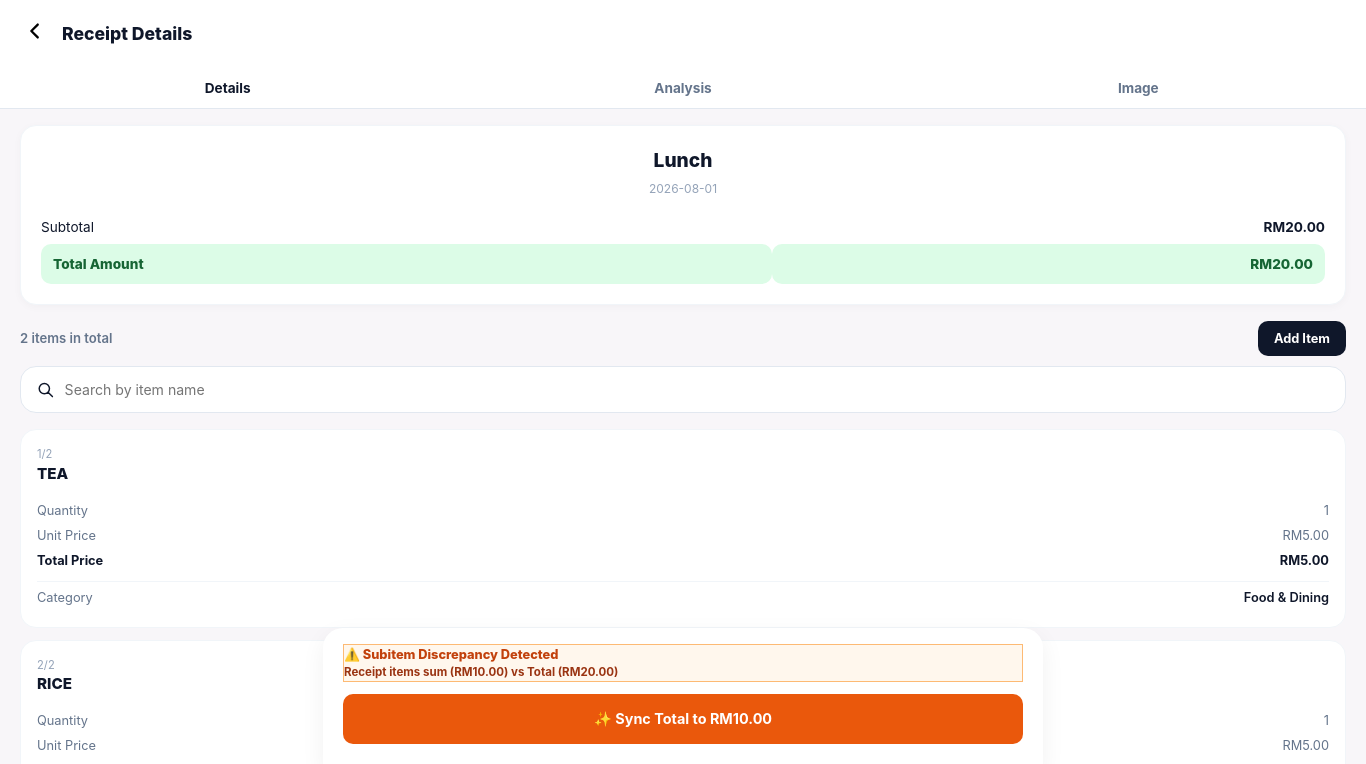
Test: ReceiptDetailsView › filters line items and reports a fee-aware discrepancy
The image size is (1366, 764).
Expected: the text "Tea" is shown, [37,464,68,483]
Type "rice" into the field with placeholder "Search by item name" at {"x": 697, "y": 390}, box [65,379,1329,400]
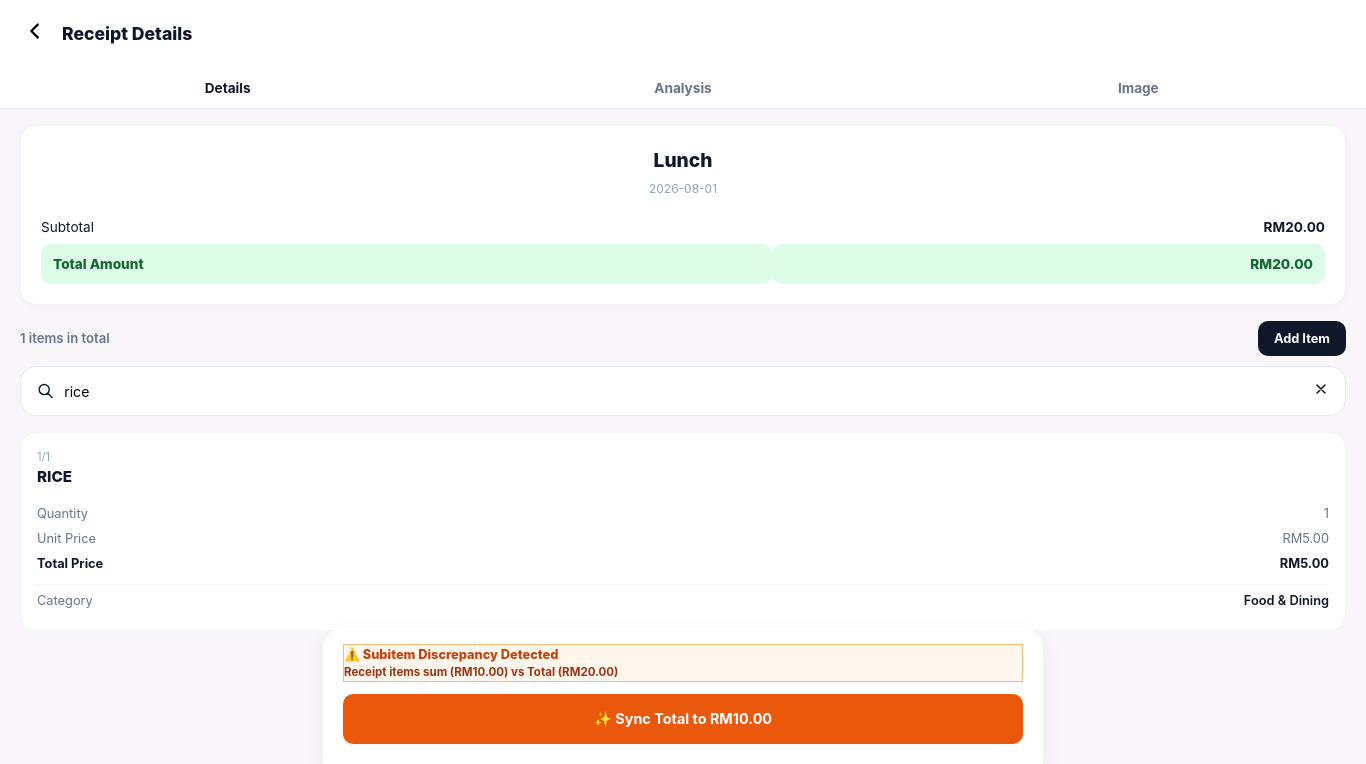
Expected: the text "Rice" is shown, [37,467,72,486]
Expected: the text "Tea" is gone
